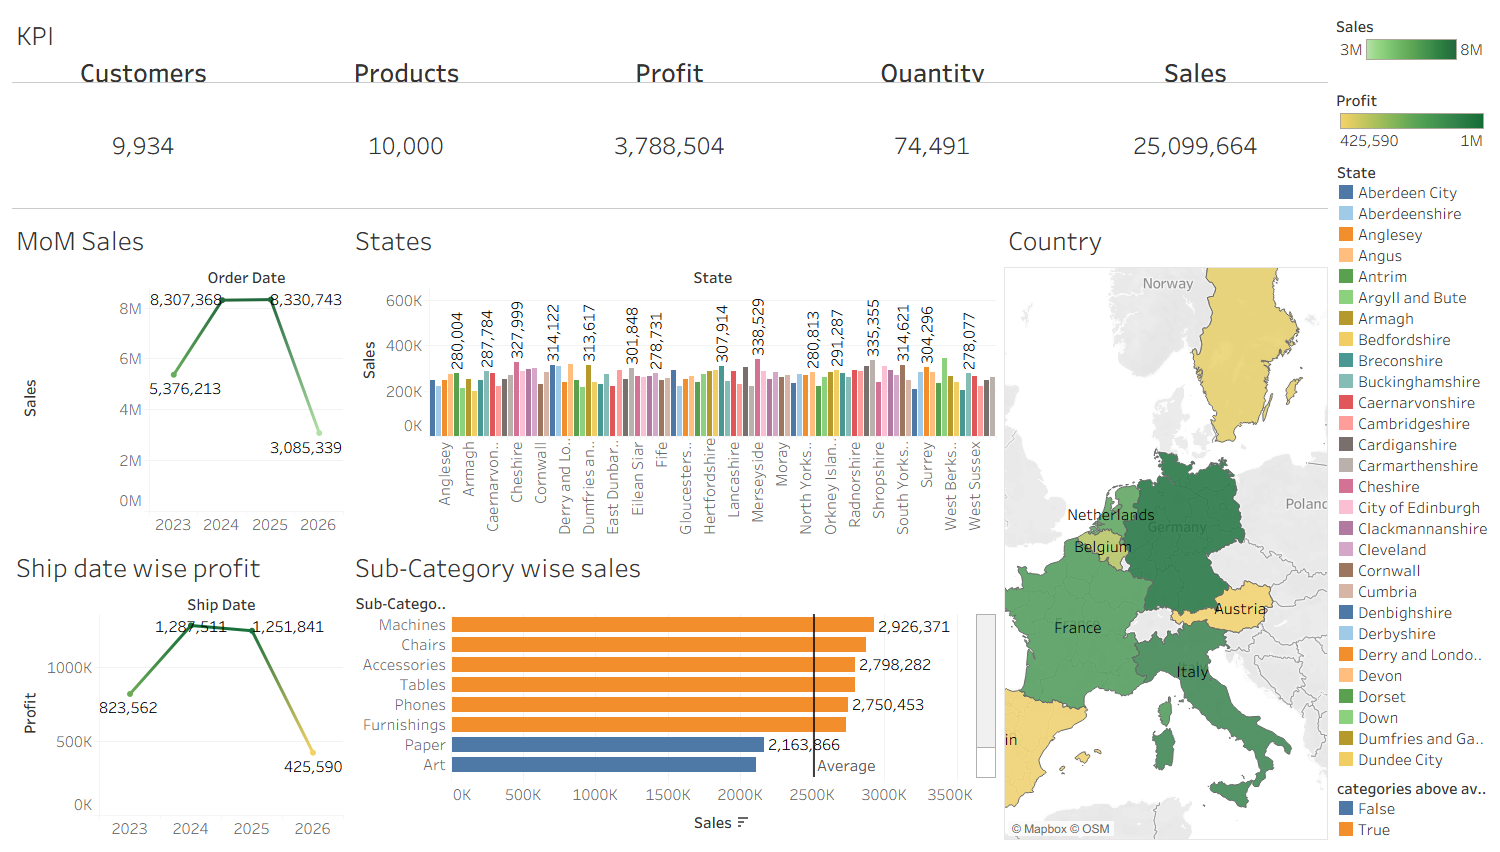

The page's visual inventory and layout, read from the dashboard file:
{"tool":"tableau","page":{"name":"Dashboard 2","canvas":[1000,1000],"units":"permille","ordinal":0},"visuals":[{"type":"worksheet","title":"KPI","mark":"Automatic","box":[5.3,9.4,882.7,240.6]},{"type":"legend","title":"MoM Sales","param":"[federated.0ogkwol04apwsp1276ehl042ip5i].[sum:Sales:qk]","box":[888,9.4,106.7,85.7]},{"type":"legend","title":"Ship date wise profit","param":"[federated.0ogkwol04apwsp1276ehl042ip5i].[sum:Profit:qk]","box":[888,95.1,106.7,85.7]},{"type":"legend","title":"States","param":"[federated.0ogkwol04apwsp1276ehl042ip5i].[none:State:nk]","box":[888,180.8,106.7,725.4]},{"type":"worksheet","title":"MoM Sales","mark":"Automatic","rows":["Sales"],"cols":["Order Date"],"box":[5.3,250,226,383.8]},{"type":"worksheet","title":"States","mark":"Automatic","rows":["Sales"],"cols":["State"],"box":[231.3,250,435.4,383.8]},{"type":"worksheet","title":"Country","mark":"Automatic","box":[666.6,250,221.3,740.6]},{"type":"worksheet","title":"Ship date wise profit","mark":"Automatic","rows":["Profit"],"cols":["Ship Date"],"box":[5.3,633.8,226,356.8]},{"type":"worksheet","title":"Sub-Category wise Sales","mark":"Automatic","rows":["Sub-Category"],"cols":["Sales"],"box":[231.3,633.8,435.4,356.8]},{"type":"legend","title":"Sub-Category wise Sales","param":"[federated.0ogkwol04apwsp1276ehl042ip5i].[usr:categories above avg (copy)_060555","box":[888,906.1,106.7,84.5]}]}

Visuals, with their boxes on the dashboard's canvas, which has no fixed pixel size, in thousandths of its width and height (x1, y1, x2, y2). These are canvas units, not pixel positions in the 1500x852 screenshot, which may show the page scaled, cropped or inside an application window:
"KPI" worksheet: [left=5, top=9, right=888, bottom=250]
"MoM Sales" legend: [left=888, top=9, right=995, bottom=95]
"Ship date wise profit" legend: [left=888, top=95, right=995, bottom=181]
"States" legend: [left=888, top=181, right=995, bottom=906]
"MoM Sales" worksheet: [left=5, top=250, right=231, bottom=634]
"States" worksheet: [left=231, top=250, right=667, bottom=634]
"Country" worksheet: [left=667, top=250, right=888, bottom=991]
"Ship date wise profit" worksheet: [left=5, top=634, right=231, bottom=991]
"Sub-Category wise Sales" worksheet: [left=231, top=634, right=667, bottom=991]
"Sub-Category wise Sales" legend: [left=888, top=906, right=995, bottom=991]
